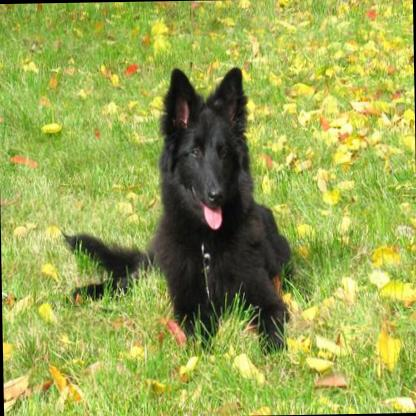groenendael: (55, 64, 298, 359)
